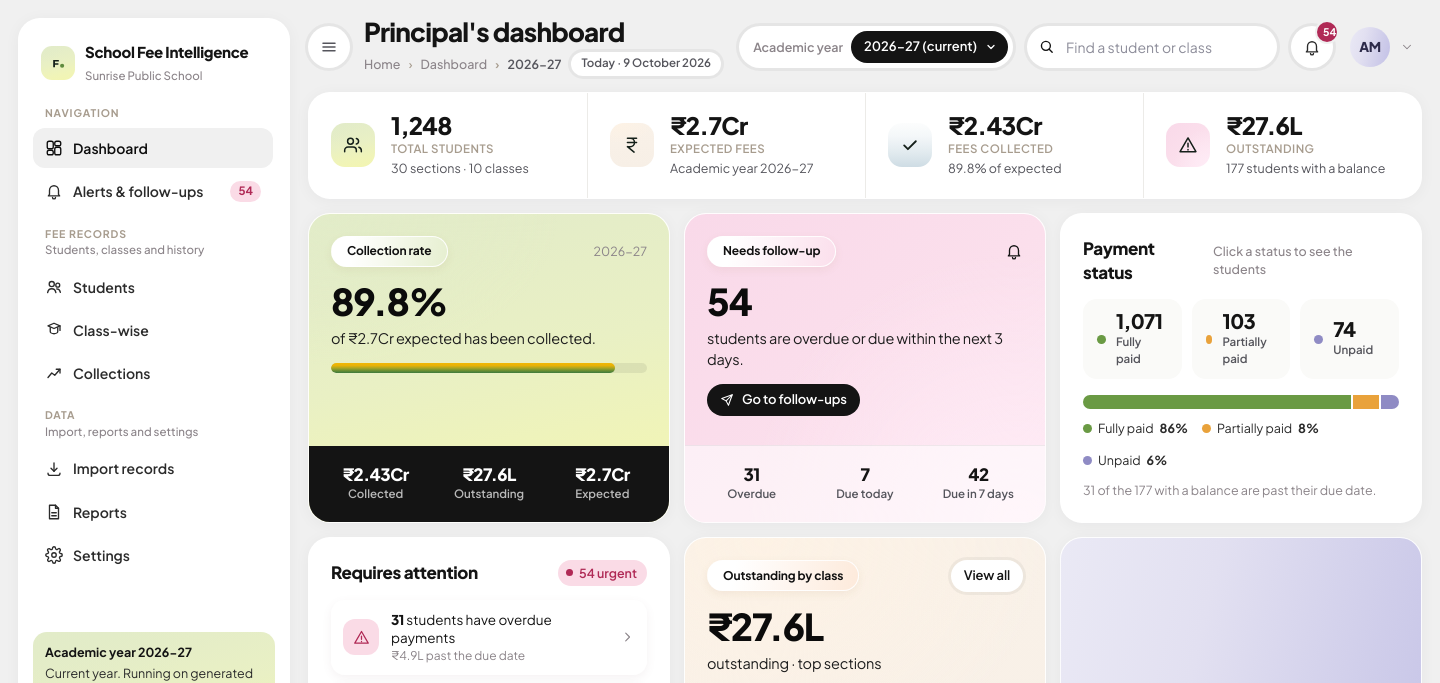
Scenario: every screen renders from a fresh seed › signing out from the account menu returns to the login page
Click the button with aria-label "Account: Anita Mehra": (1384, 47) [1347,24,1422,70]
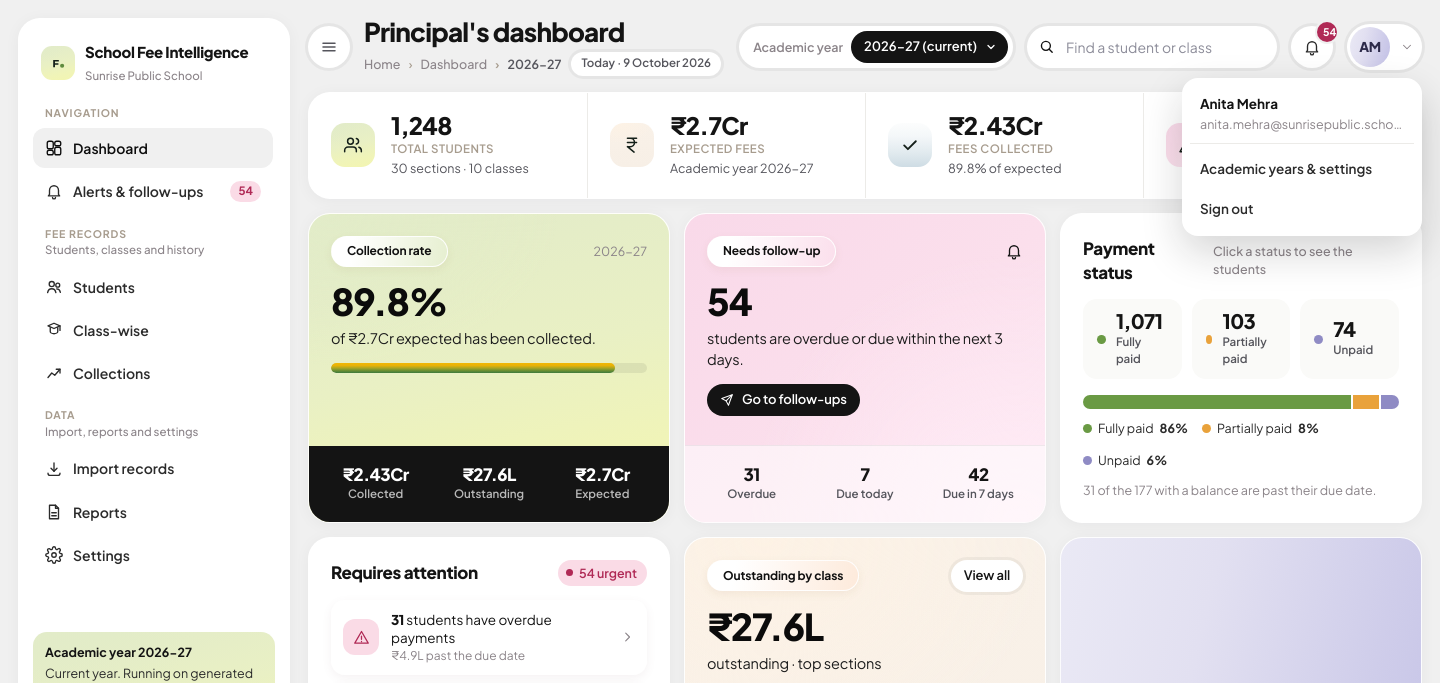
Click the menu item "Sign out": (1302, 209) [1190,190,1414,228]
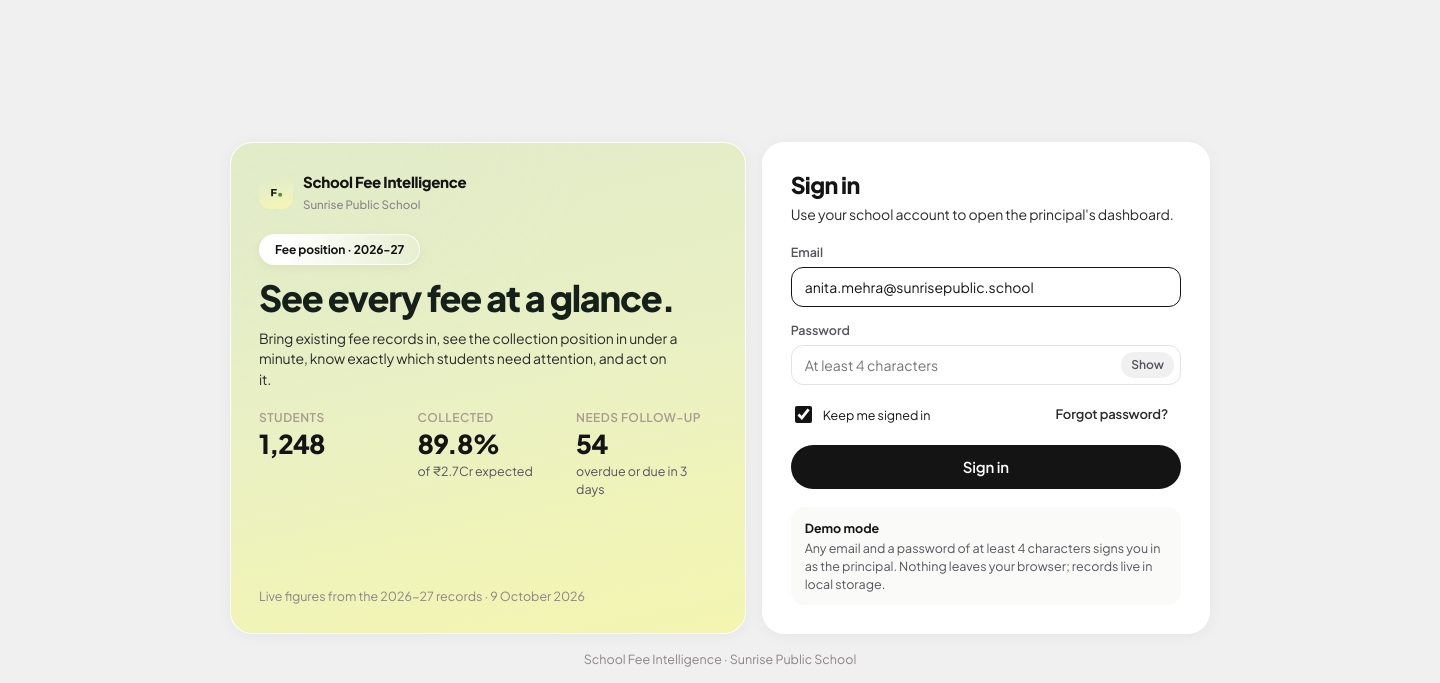
Expected: the heading "Sign in" is shown, [791,170,860,199]
